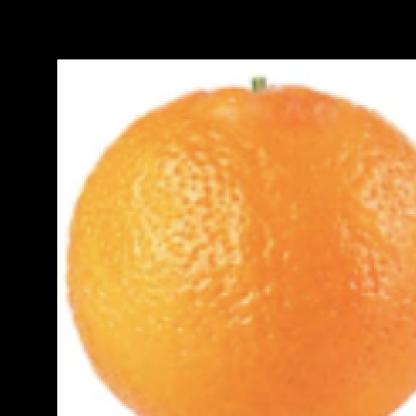rotten: (64, 74, 416, 411)
